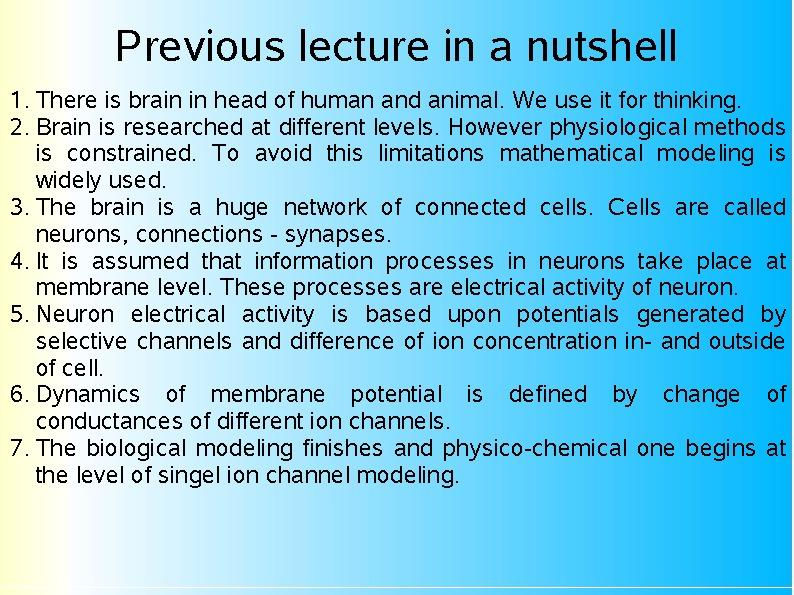paragraph: (4, 80, 792, 511)
title: (102, 20, 692, 76)
